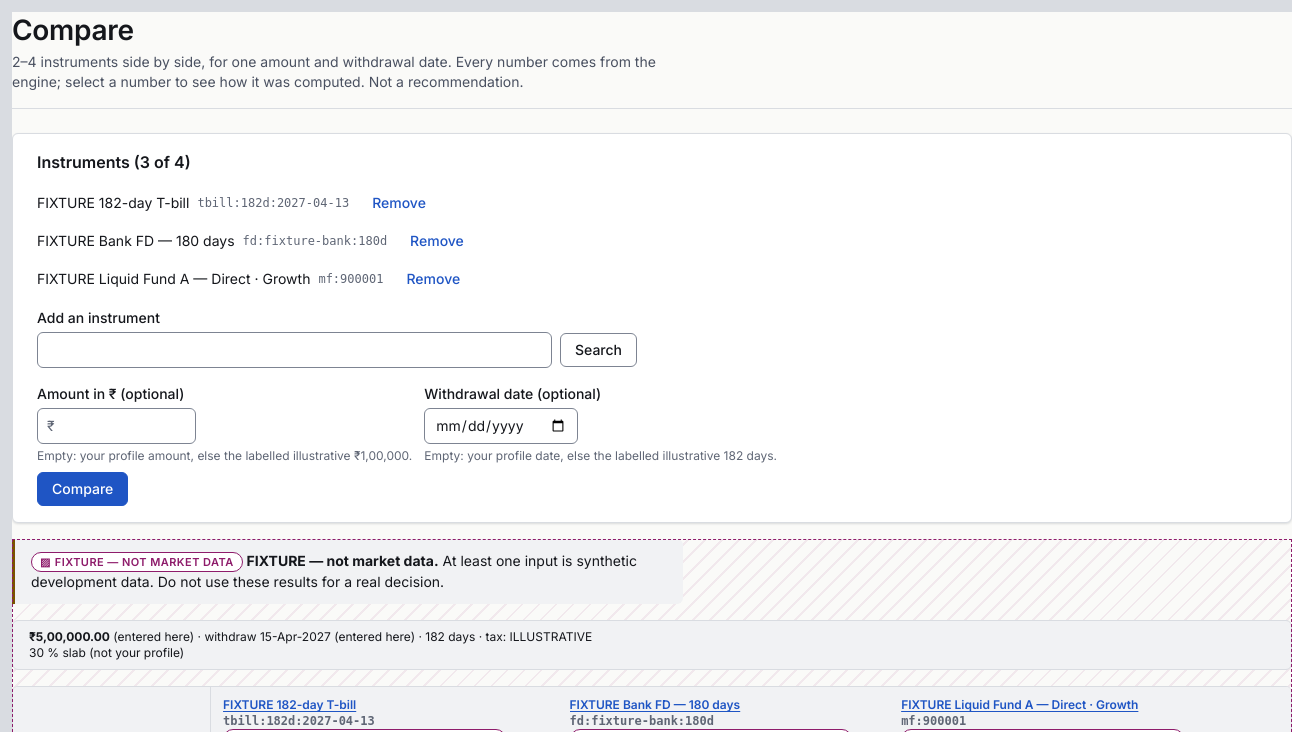
Scenario: Compare page › rejects an invalid amount without sending a request
In the field labelled "Amount in ₹ (optional)": (116, 426) [37,408,196,444], type "5,00,000"
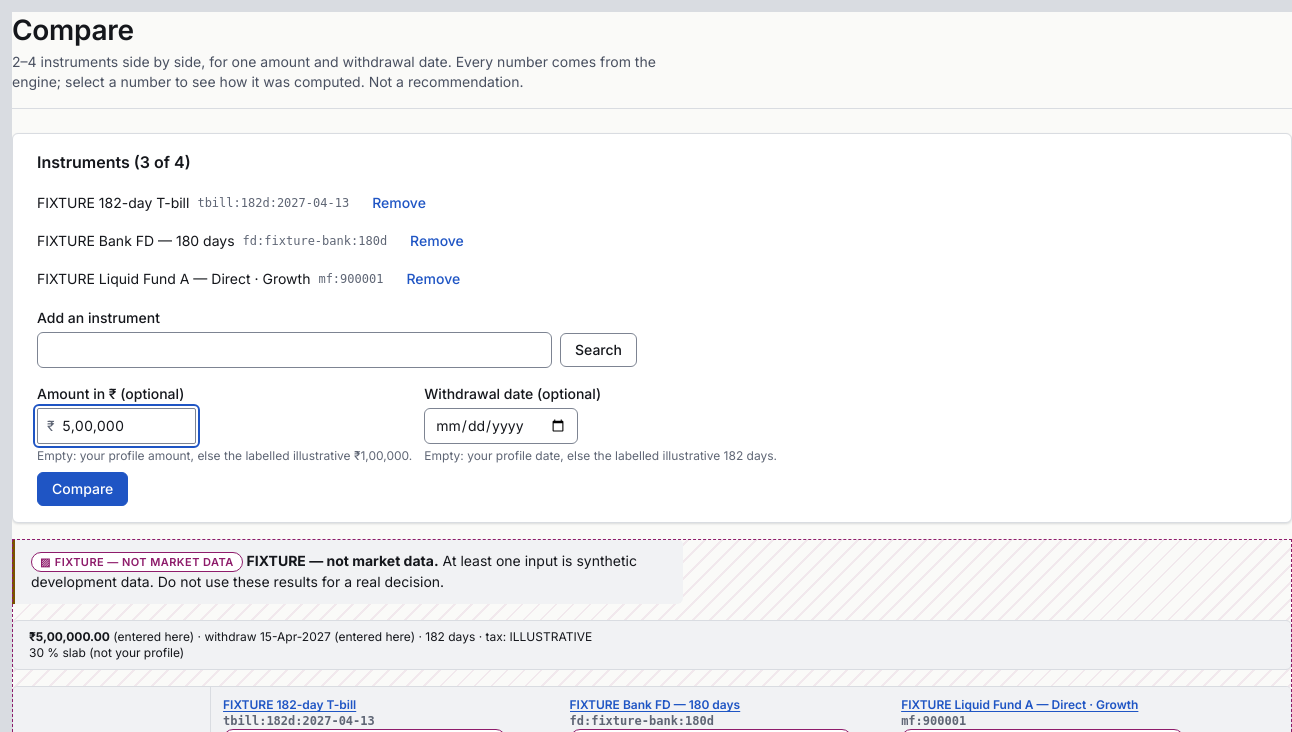
Click the button "Compare": (83, 489) [37,472,128,506]
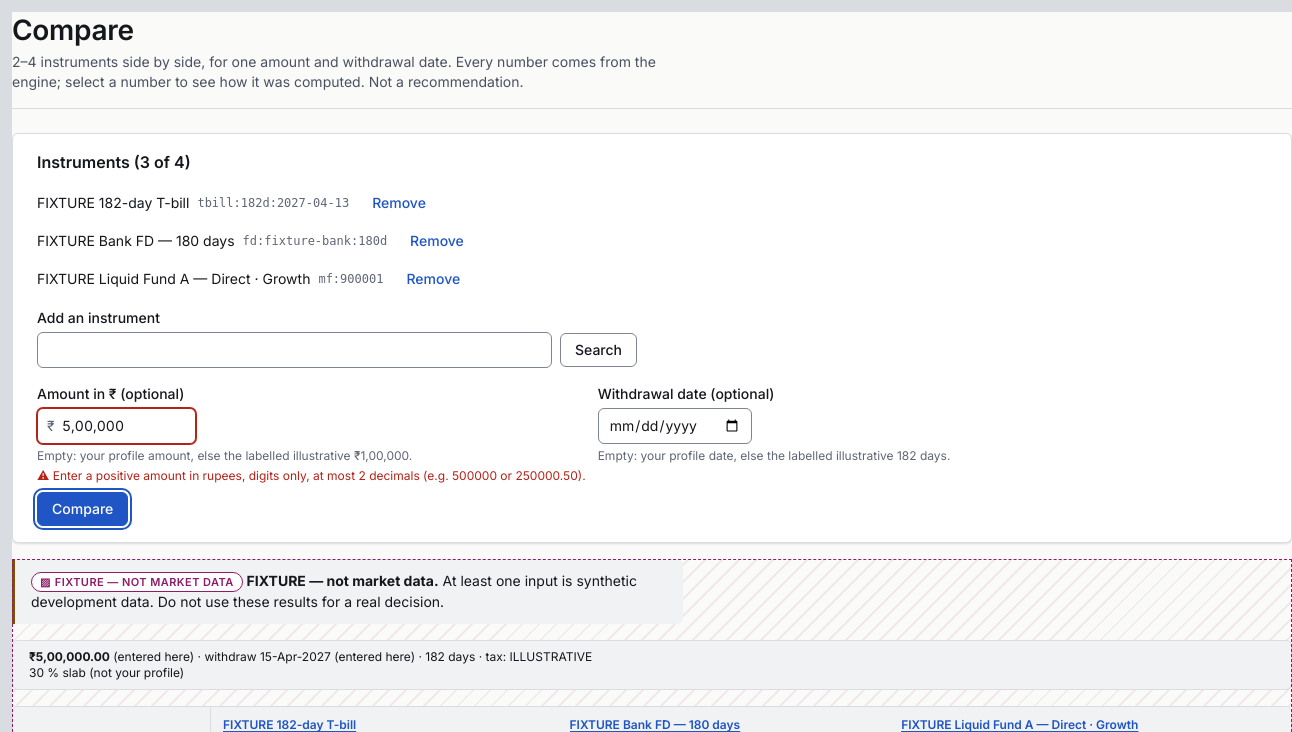
Result: the text "Enter a positive amount in rupees" is shown at [53,468,586,483]
